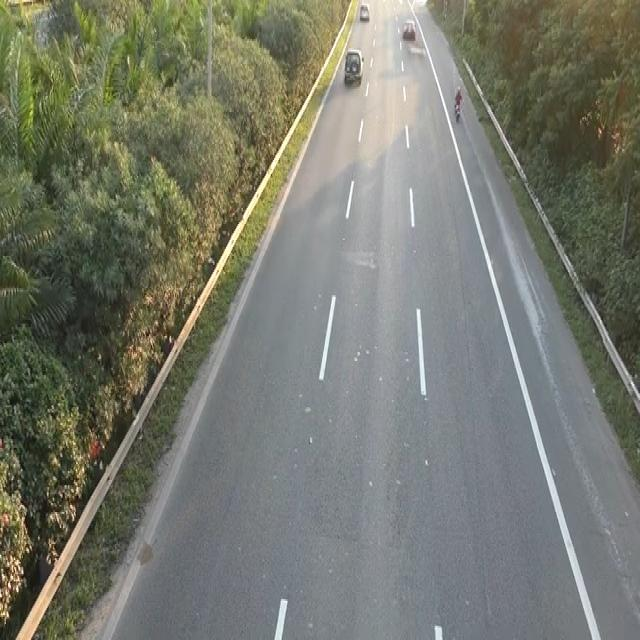bus: (401, 18, 416, 41), (358, 2, 370, 21)
car: (341, 44, 367, 90)
minibus: (453, 96, 462, 121)
